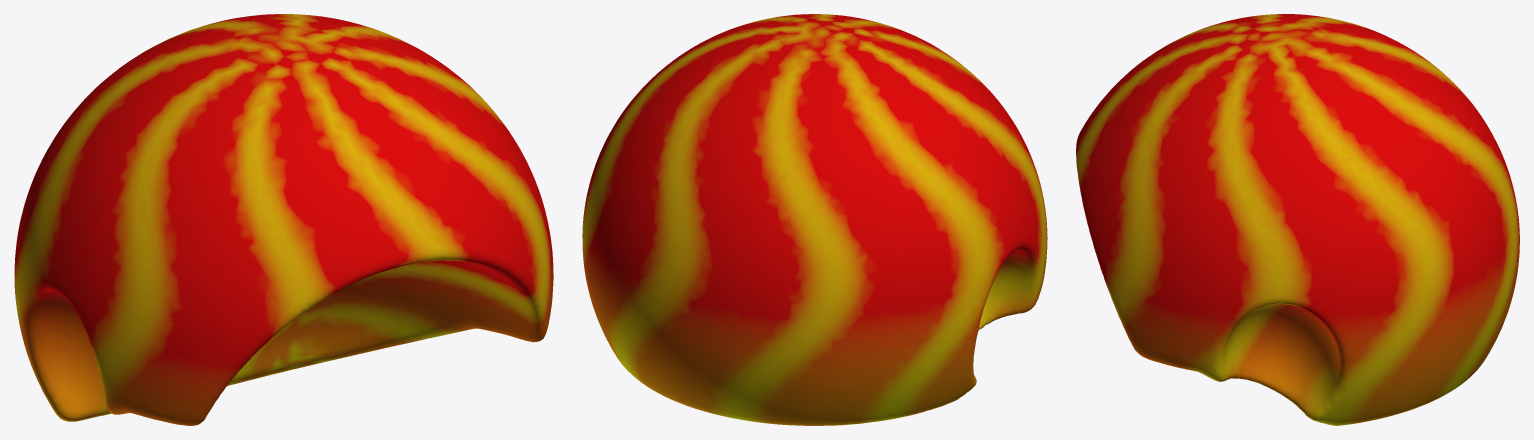
The model's file is buzz.glb.
3 renders of one model, left to right at view 1: azimuth 30°, elevation 25°; view 2: azimuth 150°, elevation 25°; view 3: azimuth 270°, elevation 25°, orthographic. The views are drawn at different scales.
Parts seen in each view (by area): view 1: part; view 2: part; view 3: part.
Boxes of the visible parts, bbox=[...] form: part: bbox=[14, 14, 553, 425]; part: bbox=[582, 14, 1047, 425]; part: bbox=[1076, 14, 1519, 425].
Size of the model in its own units: 2.02 by 1.51 by 1.95.
